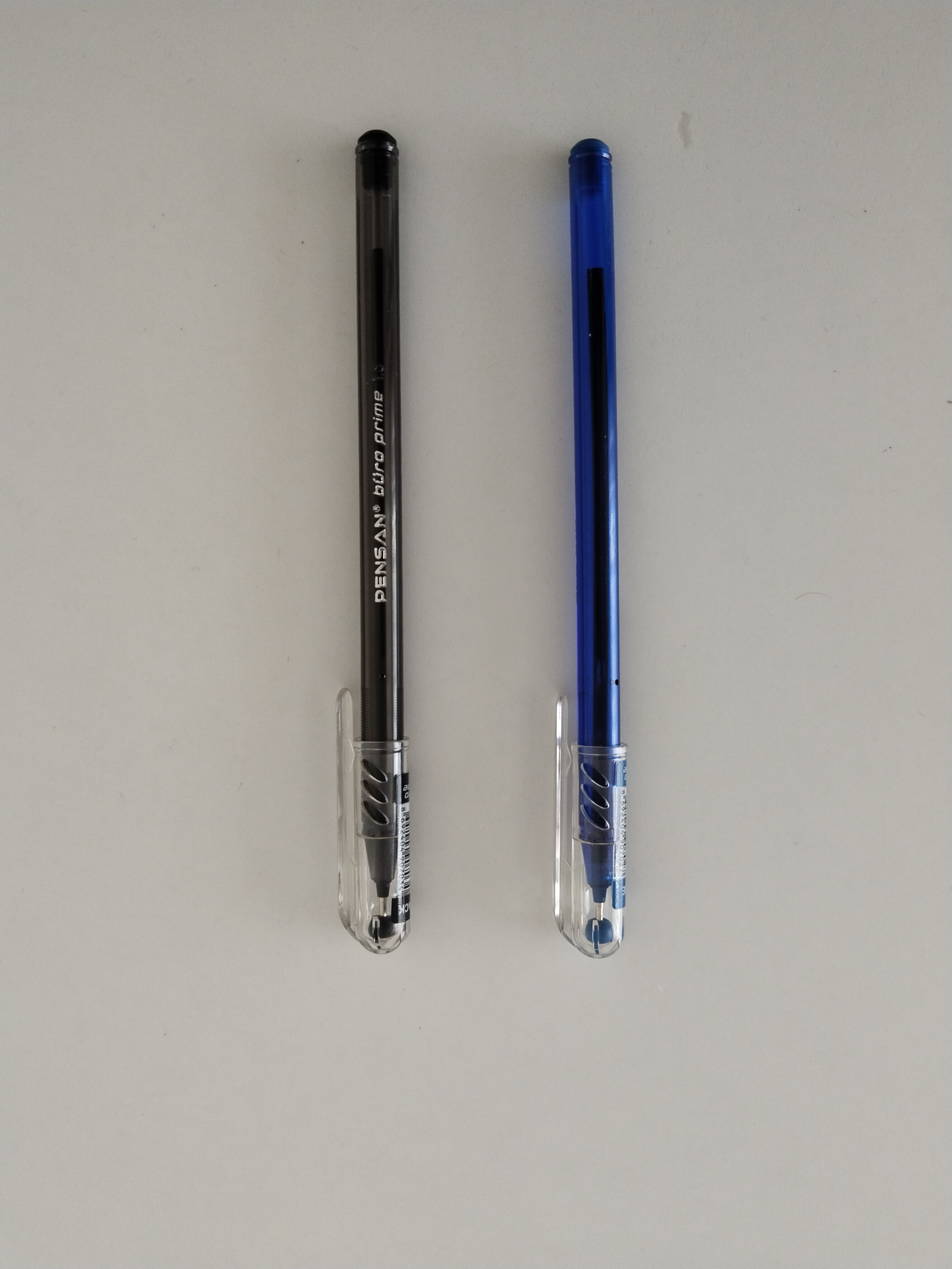pensan_mavi_tukenmez_kalem: (555, 132, 624, 953)
pensan_siyah_tukenmez_kalem: (343, 131, 405, 951)
